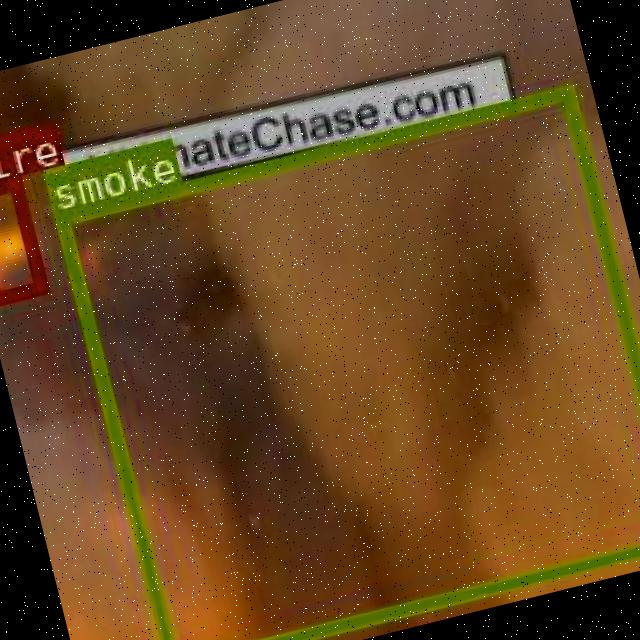fire: (0, 176, 47, 305)
smoke: (53, 84, 640, 640)
